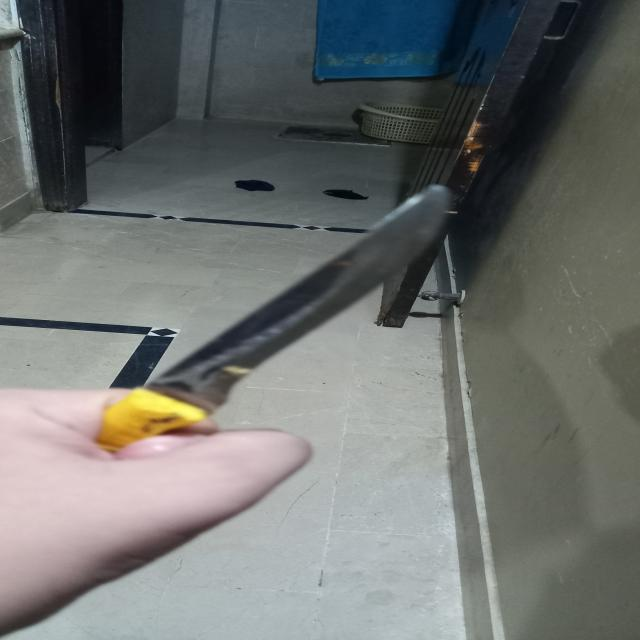Knife: (52, 184, 460, 477)
